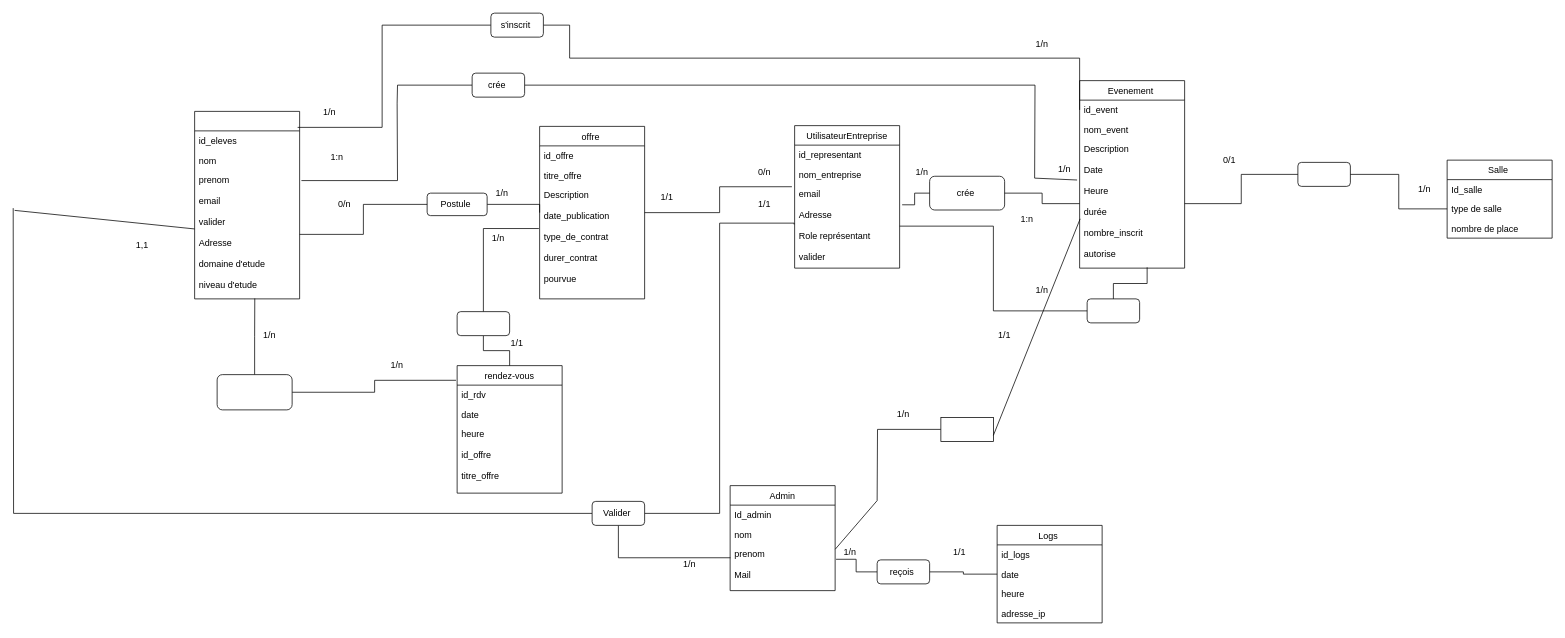
The diagram is 1565 pixels wide and 638 high, and some of its shapes have lost their labels. Here are the shapes that lost their labels. From the top down, the box of each, then its label:
(1297, 162, 1350, 186): ce passe
(194, 111, 300, 299): UtilisateurElèves
(456, 311, 510, 336): Correspond
(1086, 298, 1140, 323): inscrit
(216, 374, 292, 410): ce presente
(940, 417, 993, 441): Autorise
